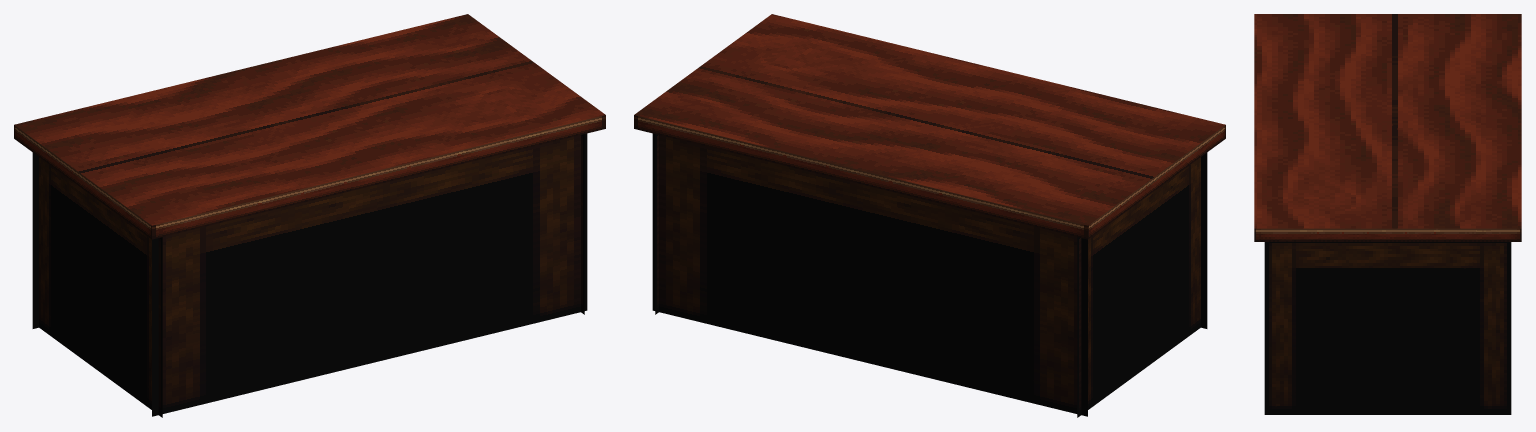
File: prop_table-reading-1.glb
3 renders of one model, left to right at view 1: azimuth 30°, elevation 25°; view 2: azimuth 150°, elevation 25°; view 3: azimuth 270°, elevation 25°, orthographic. The views are drawn at different scales.
Parts seen in each view (by area): view 1: prop_table-reading-1; view 2: prop_table-reading-1; view 3: prop_table-reading-1.
Boxes of the visible parts, <box> form: prop_table-reading-1: <box>14,14,605,417</box>; prop_table-reading-1: <box>634,14,1225,417</box>; prop_table-reading-1: <box>1254,14,1521,414</box>.
Size of the model in its own units: 1.71 by 0.72 by 0.9.
2 materials, 2 textured.
